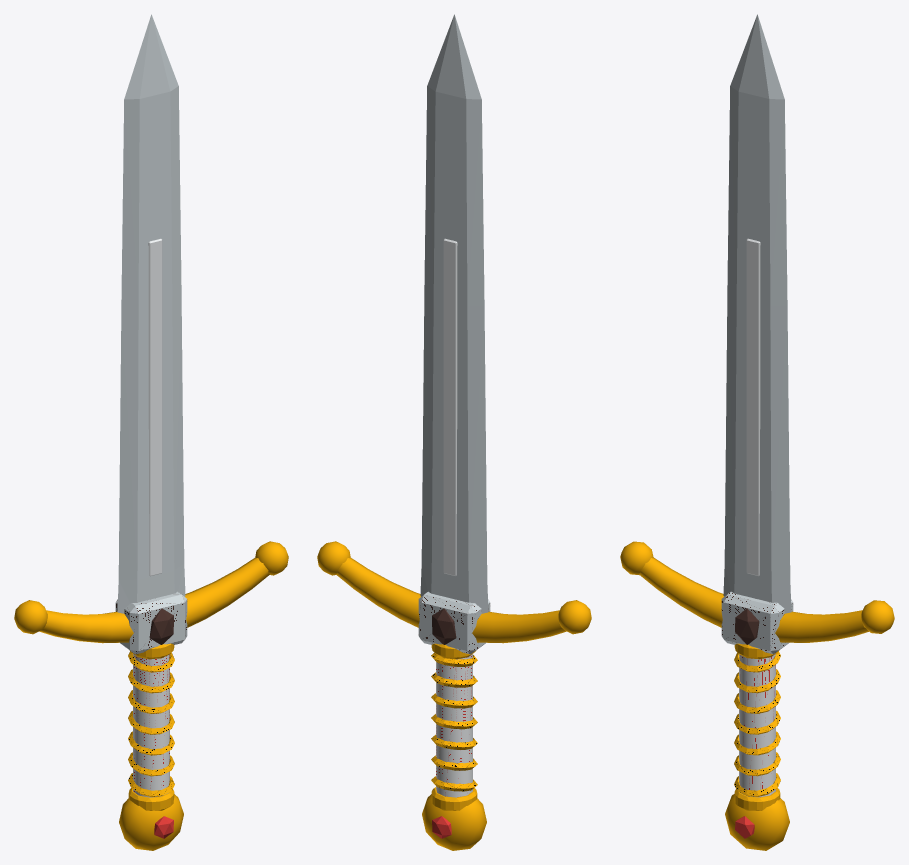
The model's file is sword.obj.
3 renders of one model, left to right at view 1: azimuth 30°, elevation 25°; view 2: azimuth 150°, elevation 25°; view 3: azimuth 330°, elevation 25°, orthographic.
Visible parts, largest first — view 1: sword; view 2: sword; view 3: sword.
Boxes of the visible parts, x1=… form: sword: x1=14, y1=14, x2=288, y2=850; sword: x1=317, y1=14, x2=591, y2=850; sword: x1=620, y1=14, x2=894, y2=850.
Size of the model in its own units: 1.97 by 5.84 by 0.3881.
Materials: 1 (1 with a texture image).
